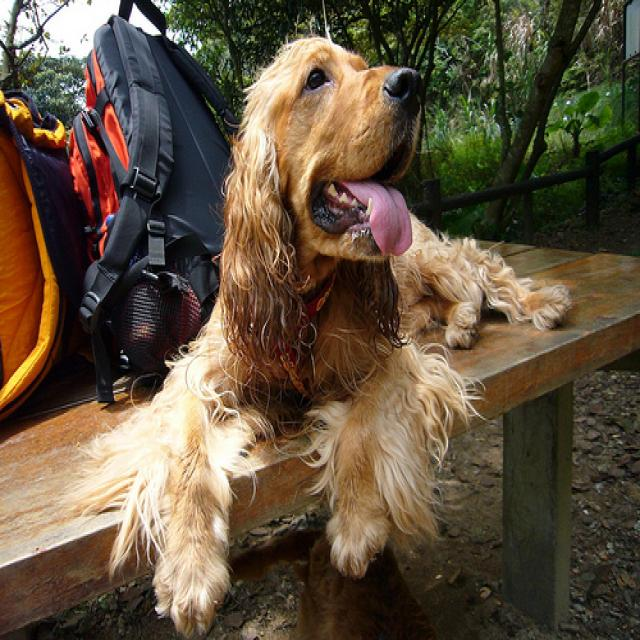dog-english_cocker_spaniel: (73, 15, 580, 637)
